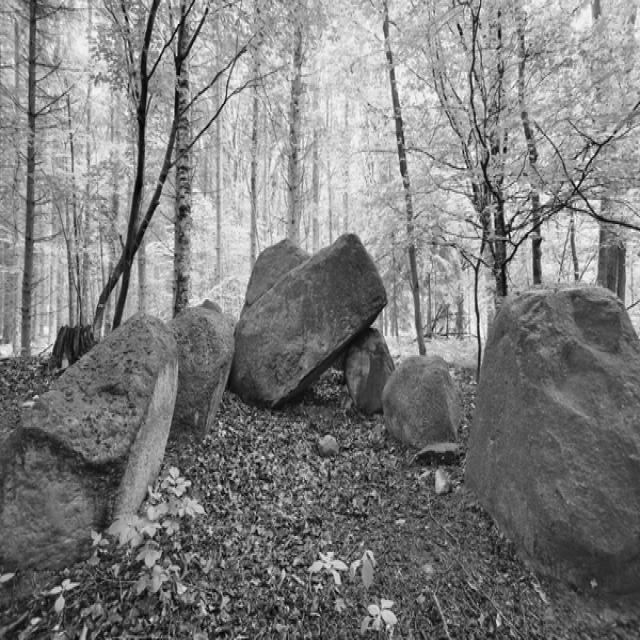Stone: (467, 286, 640, 594), (0, 317, 178, 571), (231, 234, 386, 407), (168, 301, 234, 436), (383, 358, 462, 449), (344, 328, 394, 414)
